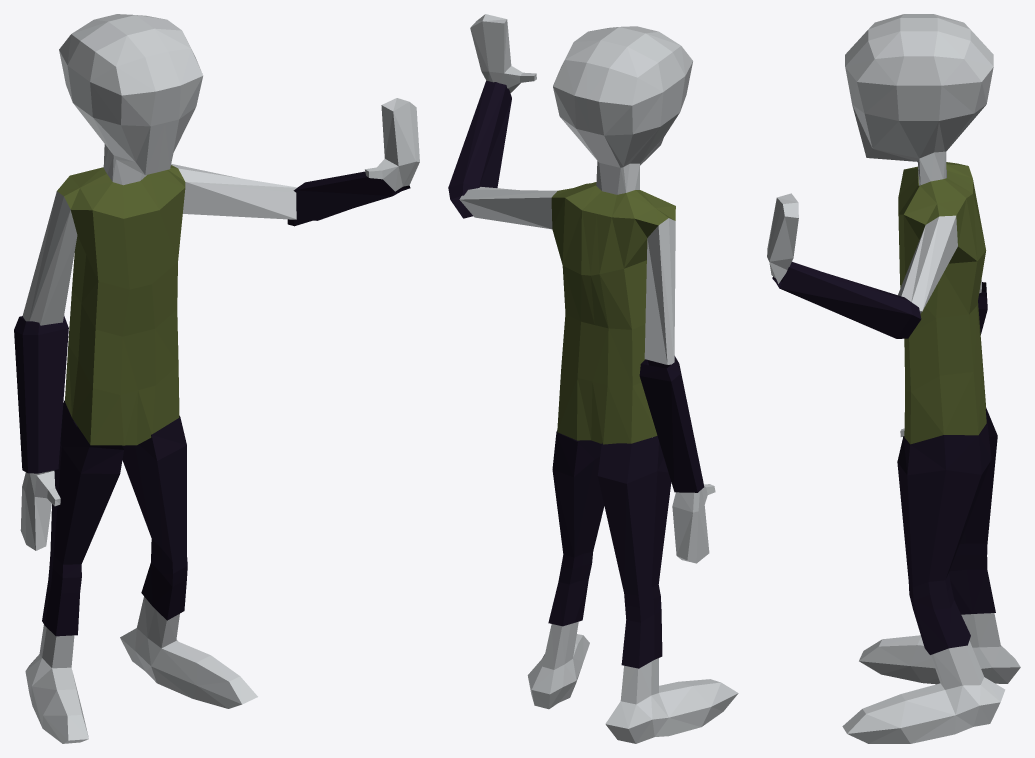
File: Human_Low_Poly.obj
3 renders of one model, left to right at view 1: azimuth 30°, elevation 25°; view 2: azimuth 150°, elevation 25°; view 3: azimuth 270°, elevation 25°, orthographic. The views are drawn at different scales.
Visible parts, largest first — view 1: Cube; view 2: Cube; view 3: Cube.
Boxes of the visible parts, x1,y1,x2,y2 form: Cube: (14, 14, 419, 743); Cube: (448, 14, 738, 743); Cube: (767, 14, 1020, 743).
Bounding box in the file's own units: 0.7476 × 1.58 × 0.5298.
